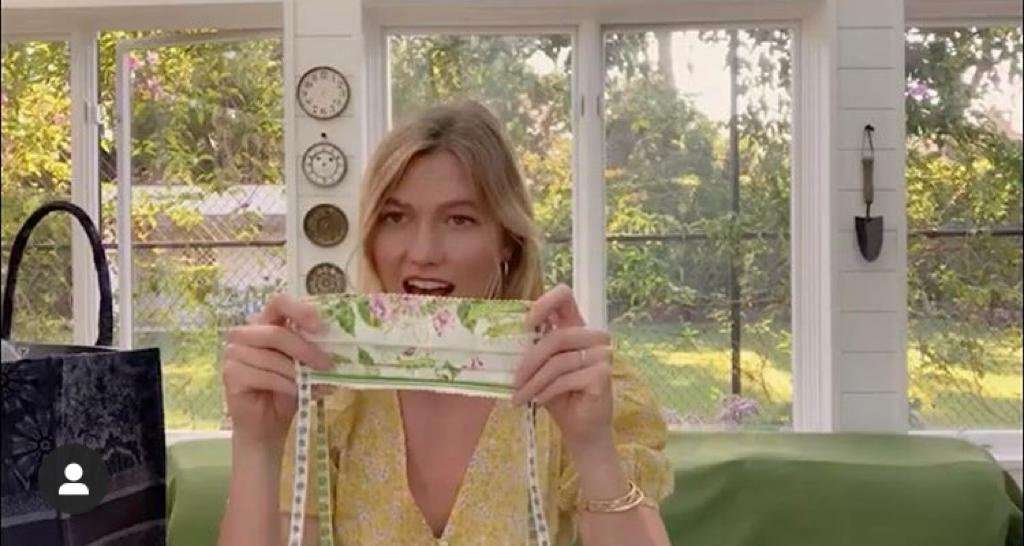mouth: (398, 274, 455, 295)
nose: (403, 250, 442, 268)
